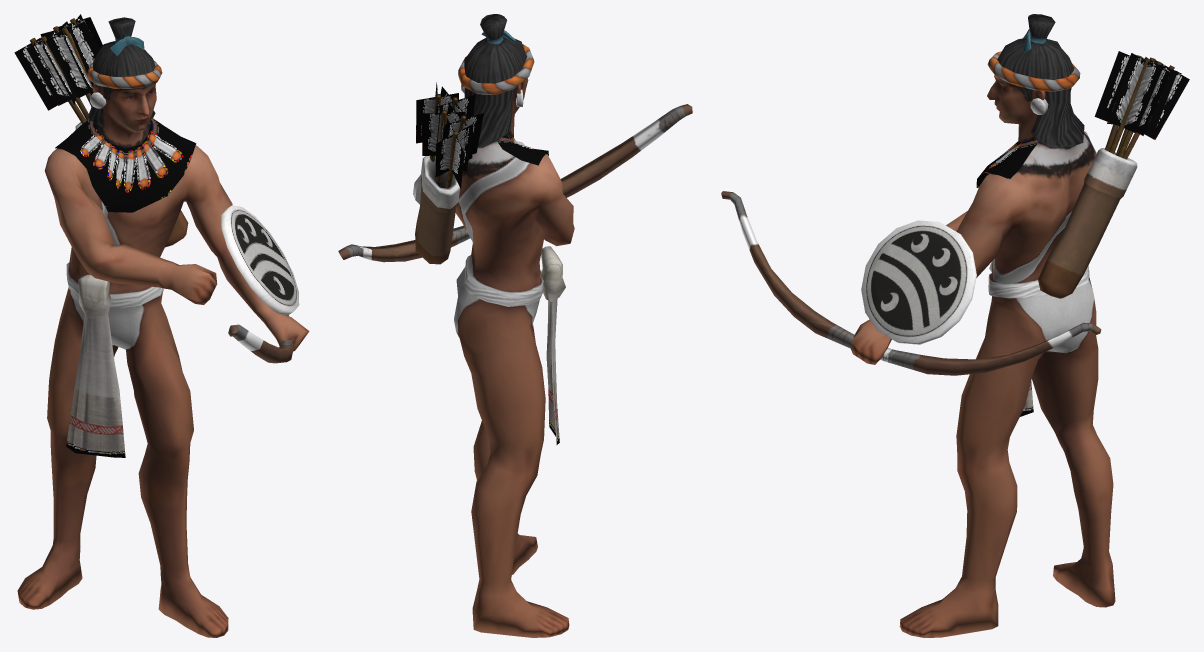
The model's file is 215-tequihuaarcher.glb.
3 views of the same model, side by side, from view 1: azimuth 30°, elevation 25°; view 2: azimuth 150°, elevation 25°; view 3: azimuth 270°, elevation 25° (orthographic). The views are drawn at different scales.
Size of the model in its own units: 0.8251 by 2.14 by 1.53.
4 materials, 4 textured.
